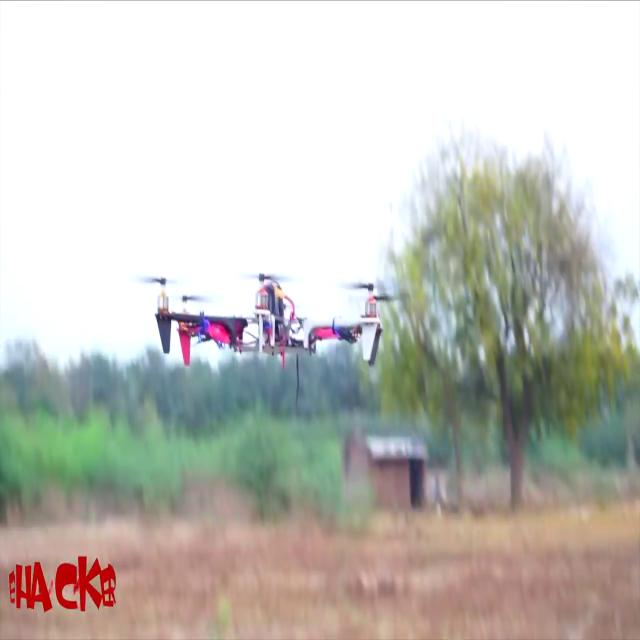drone: (134, 249, 401, 383)
